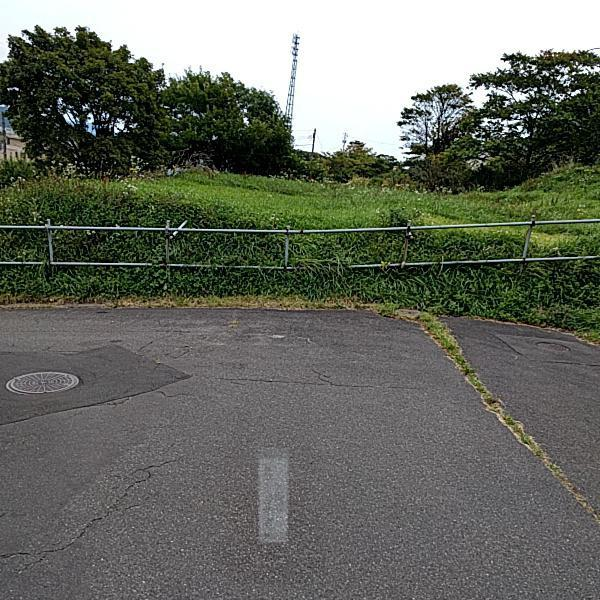D00: (1, 448, 188, 572)
D10: (219, 364, 426, 398), (155, 384, 197, 399)
D50: (8, 367, 83, 392), (530, 339, 570, 353)
